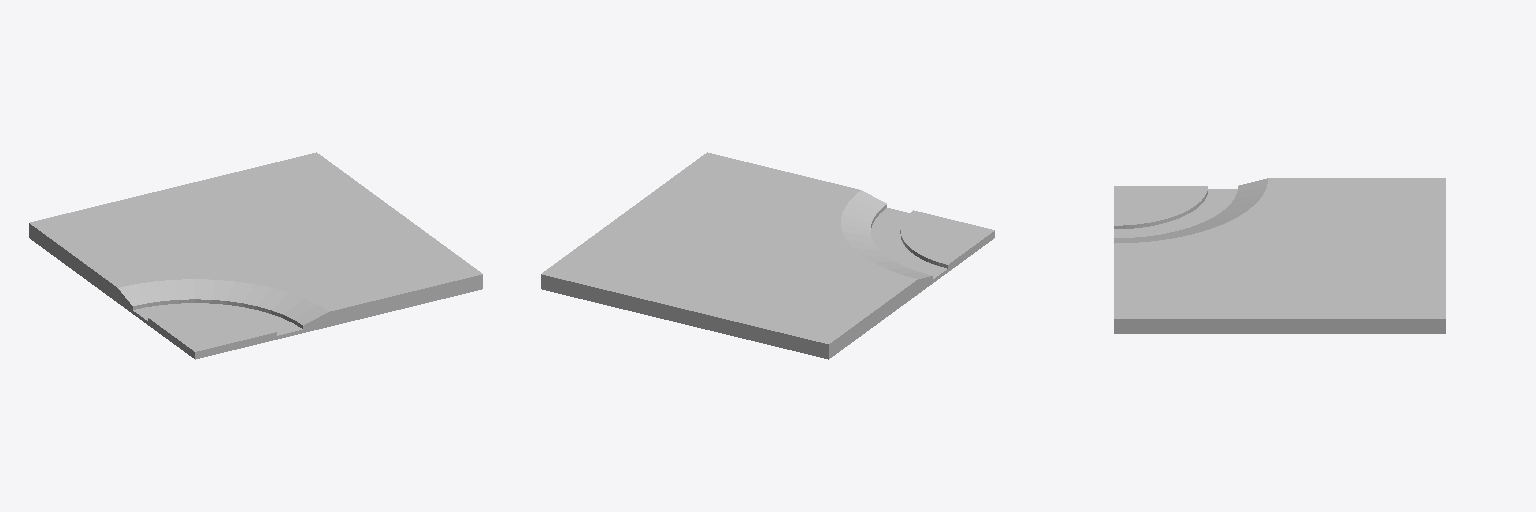
File: roadCornerInner.obj
The picture shows the model from 3 angles: view 1: azimuth 30°, elevation 25°; view 2: azimuth 150°, elevation 25°; view 3: azimuth 270°, elevation 25°; orthographic projection.
Visible parts, largest first — view 1: roadCornerInner; view 2: roadCornerInner; view 3: roadCornerInner.
Part boxes in pixels (x1,y1,x2,y2): roadCornerInner: (29,152,482,359); roadCornerInner: (541,152,994,359); roadCornerInner: (1114,178,1445,333).
Bounding box in the file's own units: 1 × 0.05 × 1.